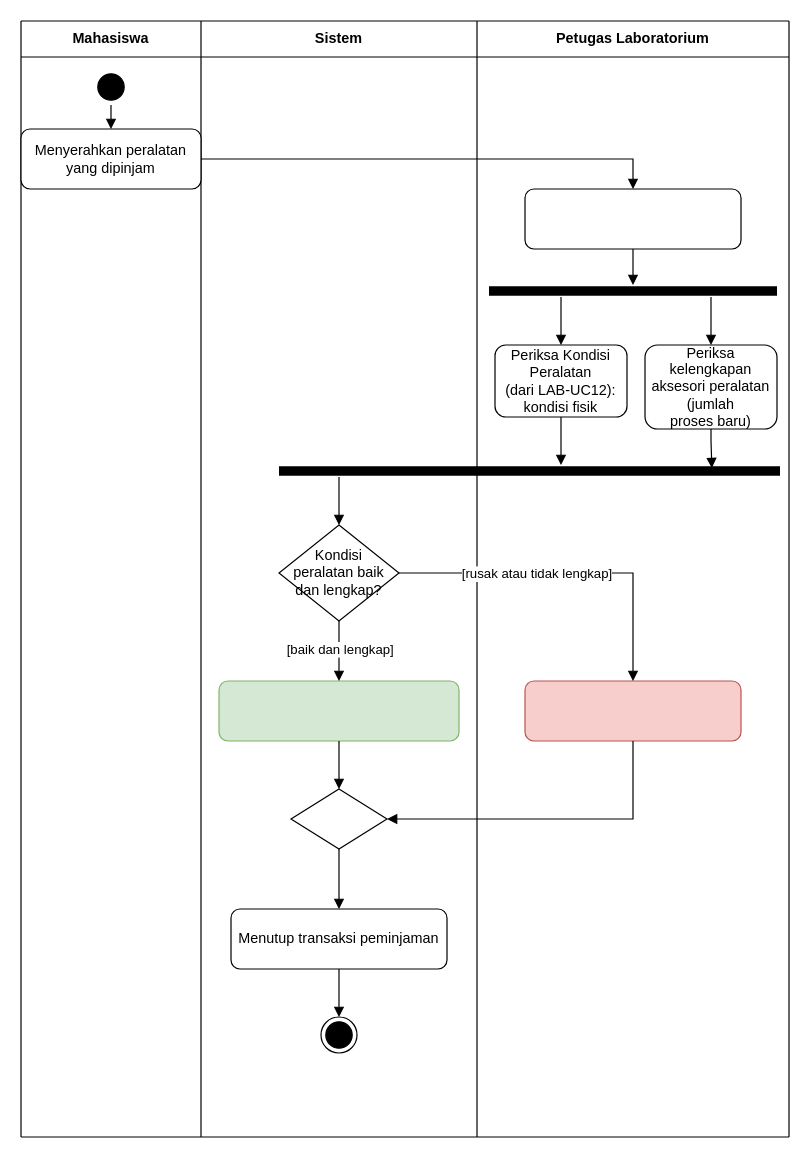
This 811x1159 diagram has some shape labels left out. Here are the shapes that lost their labels. From the top down, the centre of each, then its label:
the point at 632,218: Catat Pengembalian Peralatan (LAB-UC11)
the point at 338,710: Perbarui status peralatan menjadi tersedia
the point at 632,710: Catat kerusakan atau kekurangan dan jadwalkan perbaikan
